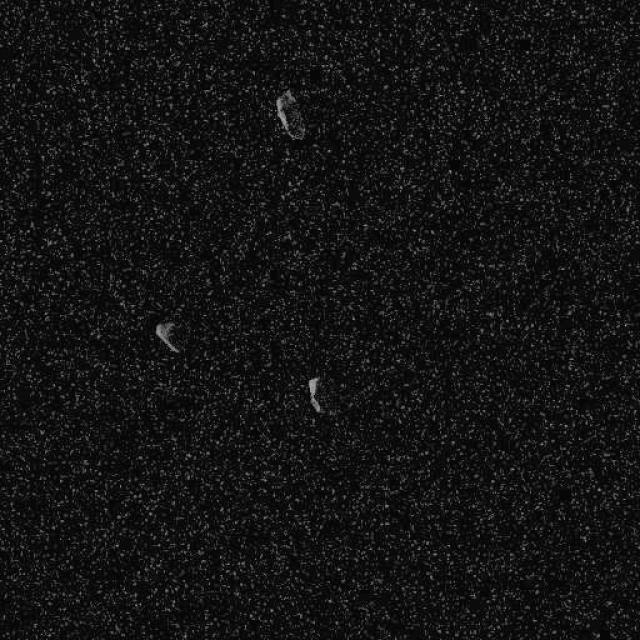D2: (274, 88, 306, 140), (154, 318, 182, 354), (305, 375, 324, 414)
